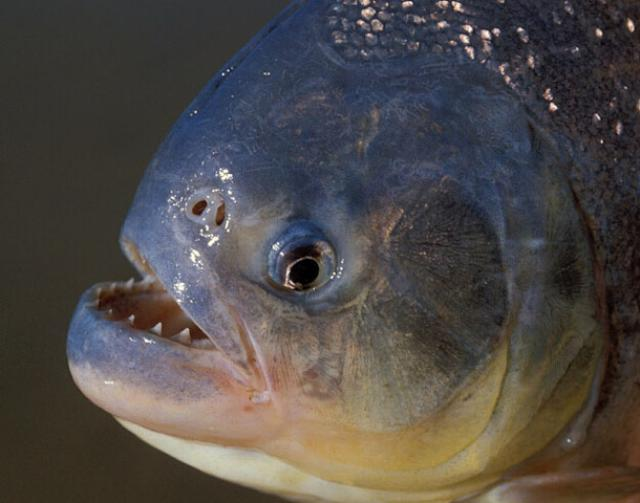Mulut: (28, 151, 284, 455)
